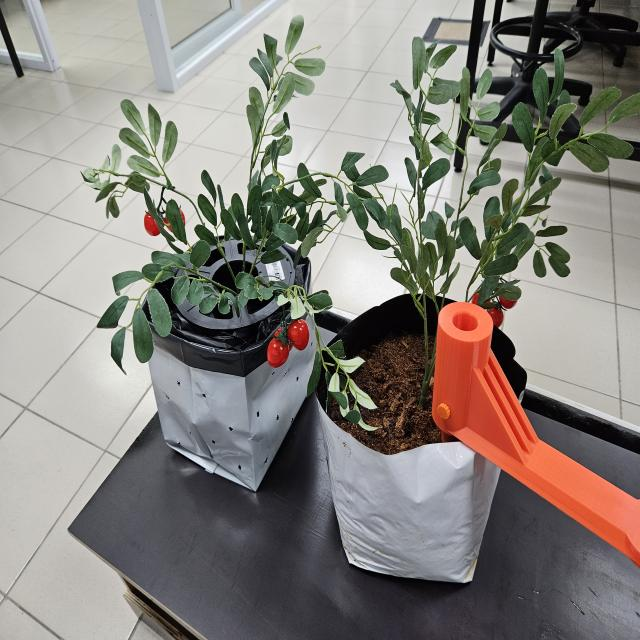EndEffector: (432, 303, 640, 572)
Soilbag: (316, 312, 500, 585)
Tomato: (267, 319, 310, 369)
plant: (79, 16, 388, 426), (337, 38, 635, 407)
